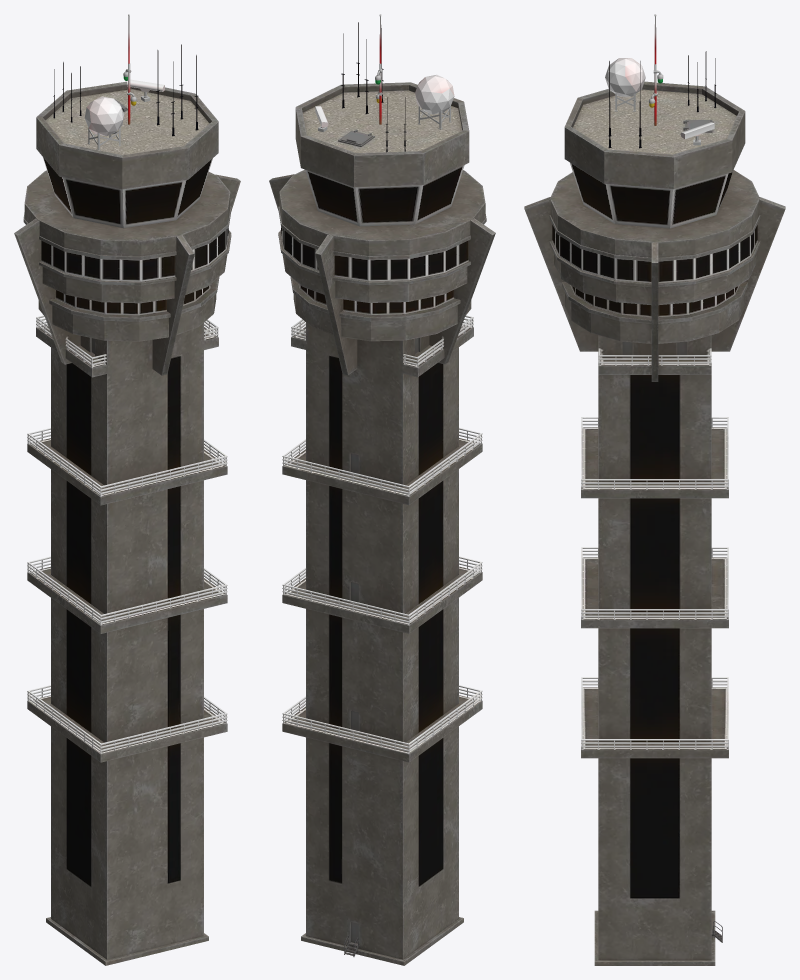
Rendered from atc-tower.walls-v1.lod0.glb.
The picture shows the model from 3 angles, left to right: view 1: azimuth 30°, elevation 25°; view 2: azimuth 150°, elevation 25°; view 3: azimuth 270°, elevation 25°; orthographic projection.
Parts seen in each view (by area): view 1: Cylinder.003_AirTower01MAT_0; view 2: Cylinder.003_AirTower01MAT_0; view 3: Cylinder.003_AirTower01MAT_0.
Boxes of the visible parts, x1,y1,x2,y2 form: Cylinder.003_AirTower01MAT_0: (14, 14, 240, 965); Cylinder.003_AirTower01MAT_0: (269, 14, 495, 965); Cylinder.003_AirTower01MAT_0: (524, 14, 785, 965).
Bounding box in the file's own units: 8.17 × 32 × 8.17.
1 material, 1 textured.
